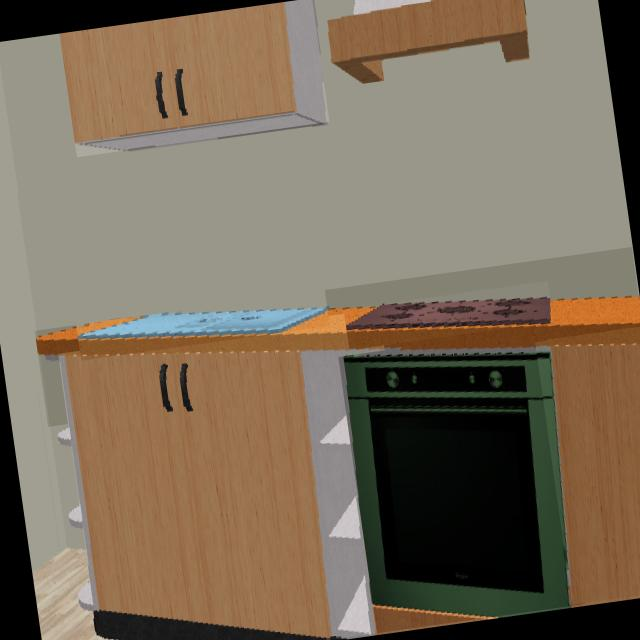cabinet: (62, 345, 422, 640), (62, 0, 327, 148), (549, 338, 640, 604)
countertop: (37, 298, 640, 357)
oven: (347, 352, 569, 616)
sink: (79, 310, 327, 338)
stove: (347, 299, 551, 332)
